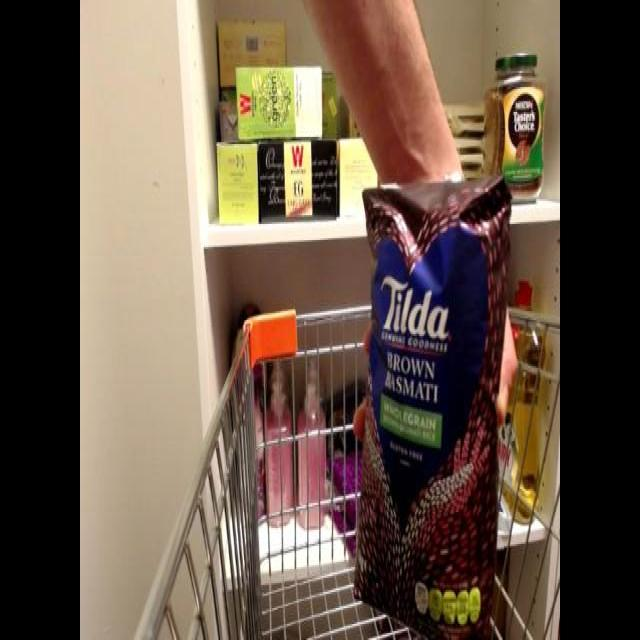Tida: (350, 166, 518, 628)
